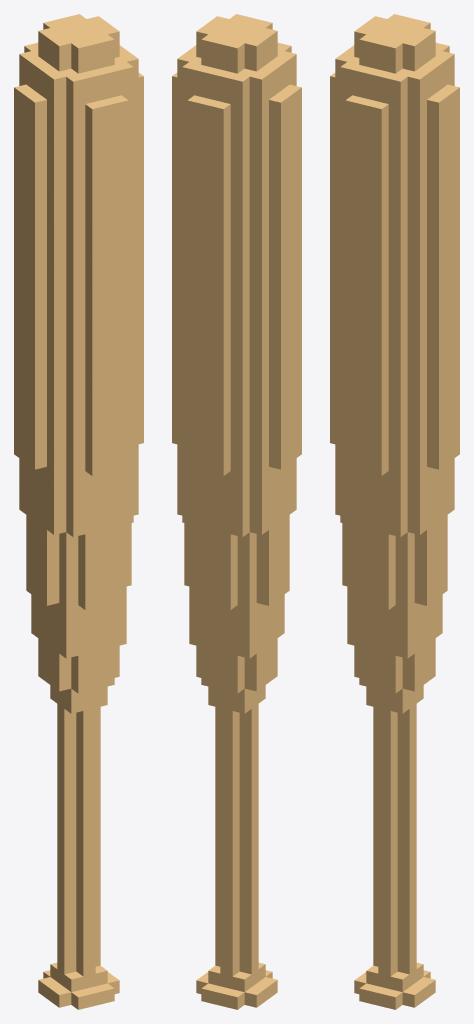
The model's file is bat.obj.
The picture shows the model from 3 angles, left to right: view 1: azimuth 30°, elevation 25°; view 2: azimuth 150°, elevation 25°; view 3: azimuth 330°, elevation 25°; orthographic projection.
Bounding box in the file's own units: 0.9 × 7.6 × 0.9.
Materials: 1 (1 with a texture image).
